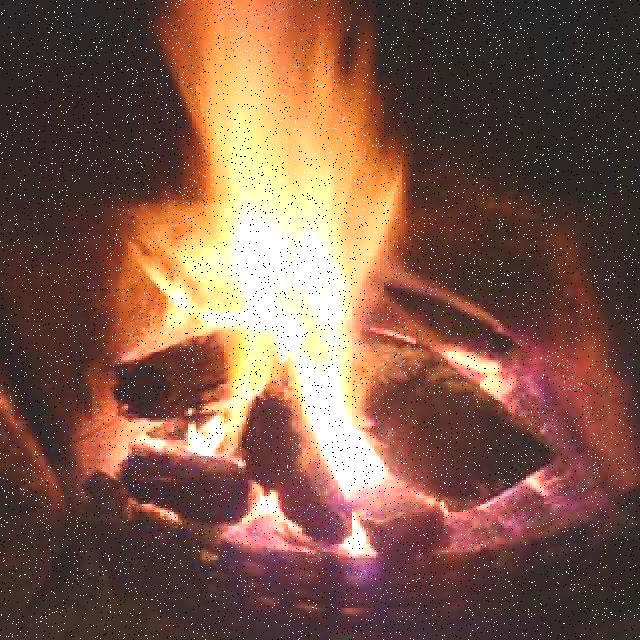Fire: (114, 6, 466, 502)
